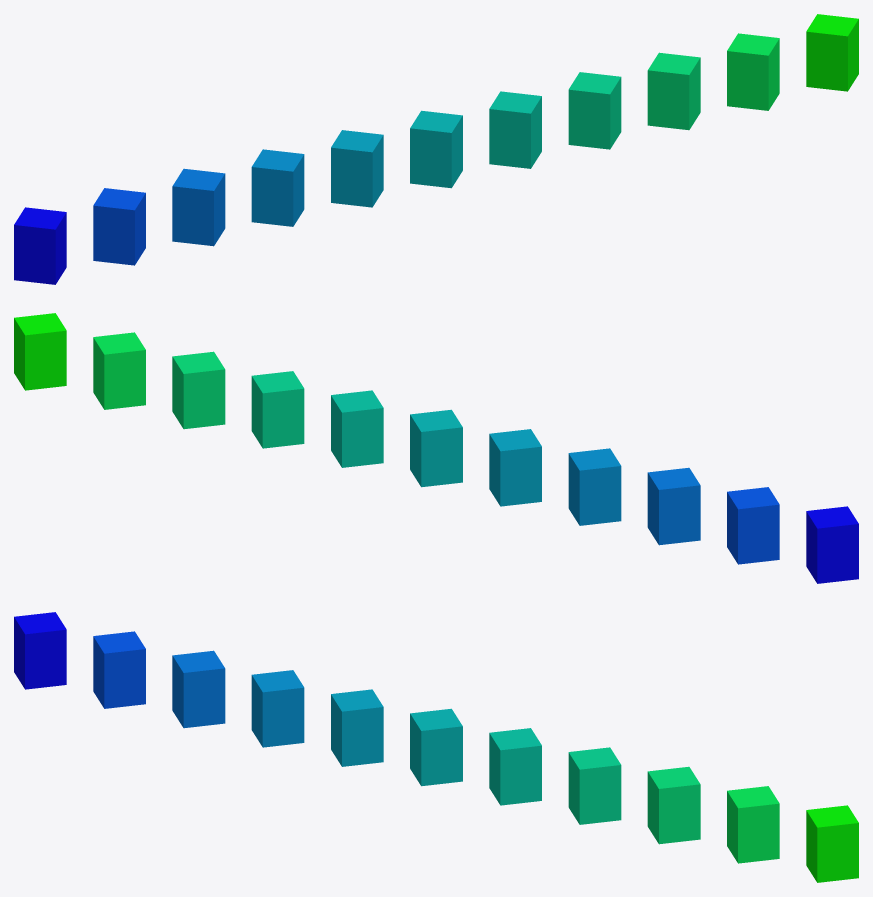
Rendered from serial_test_example_fn_std-appearance-hexString1_output.glb.
3 views of the same model, one above another, from view 1: azimuth 30°, elevation 25°; view 2: azimuth 150°, elevation 25°; view 3: azimuth 330°, elevation 25° (orthographic).
Bounding box in the file's own units: 0.48 × 0.03 × 0.03.
